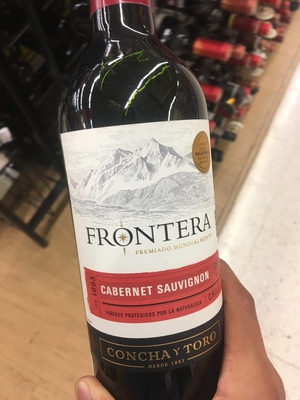frontera cabernet sauvignon: (57, 10, 243, 400)
